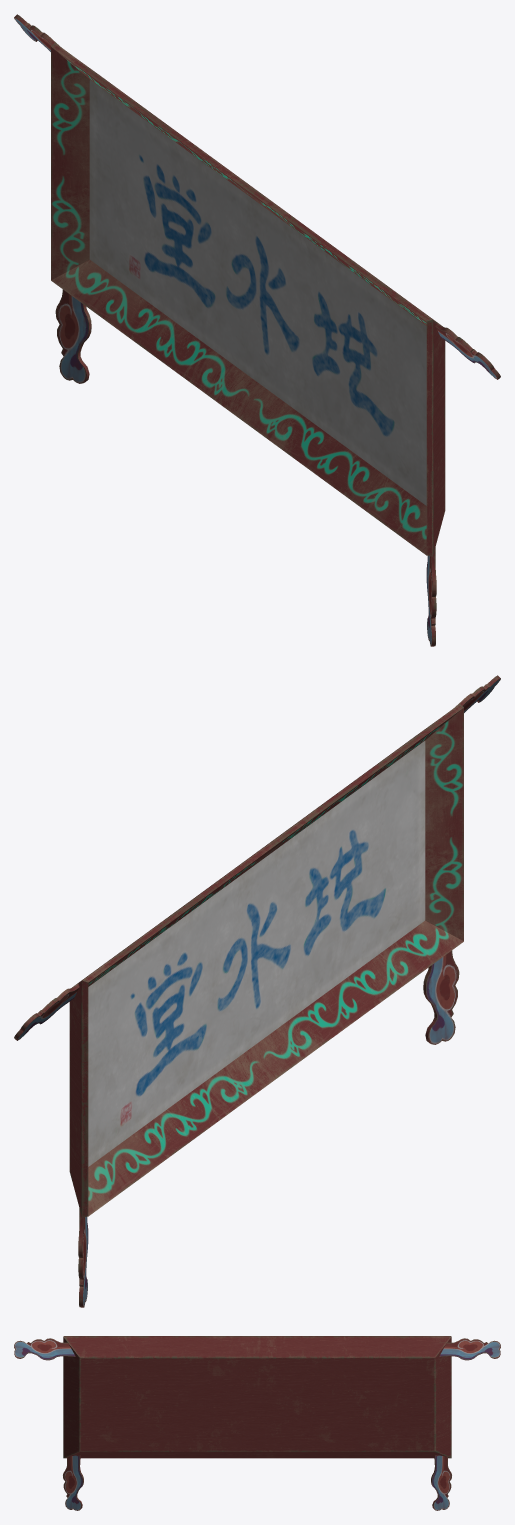
The model's file is SM_JSD_Signboard01a.fbx.
3 views of the same model, one above another, from view 1: azimuth 30°, elevation 25°; view 2: azimuth 150°, elevation 25°; view 3: azimuth 270°, elevation 25° (orthographic). The views are drawn at different scales.
Parts seen in each view (by area): view 1: SM_JSD_Signboard01a; view 2: SM_JSD_Signboard01a; view 3: SM_JSD_Signboard01a.
Part boxes in pixels (left/top/right/bottom): SM_JSD_Signboard01a: left=14, top=14, right=500, bottom=646; SM_JSD_Signboard01a: left=14, top=675, right=500, bottom=1307; SM_JSD_Signboard01a: left=14, top=1336, right=500, bottom=1510.
Size of the model in its own units: 5.78 by 140 by 54.44.
Materials: 1 (1 with a texture image).
